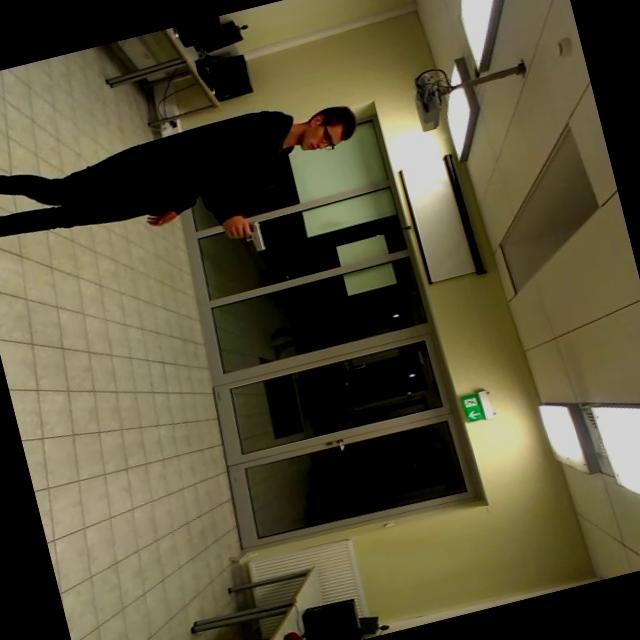handgun: (226, 213, 278, 263)
